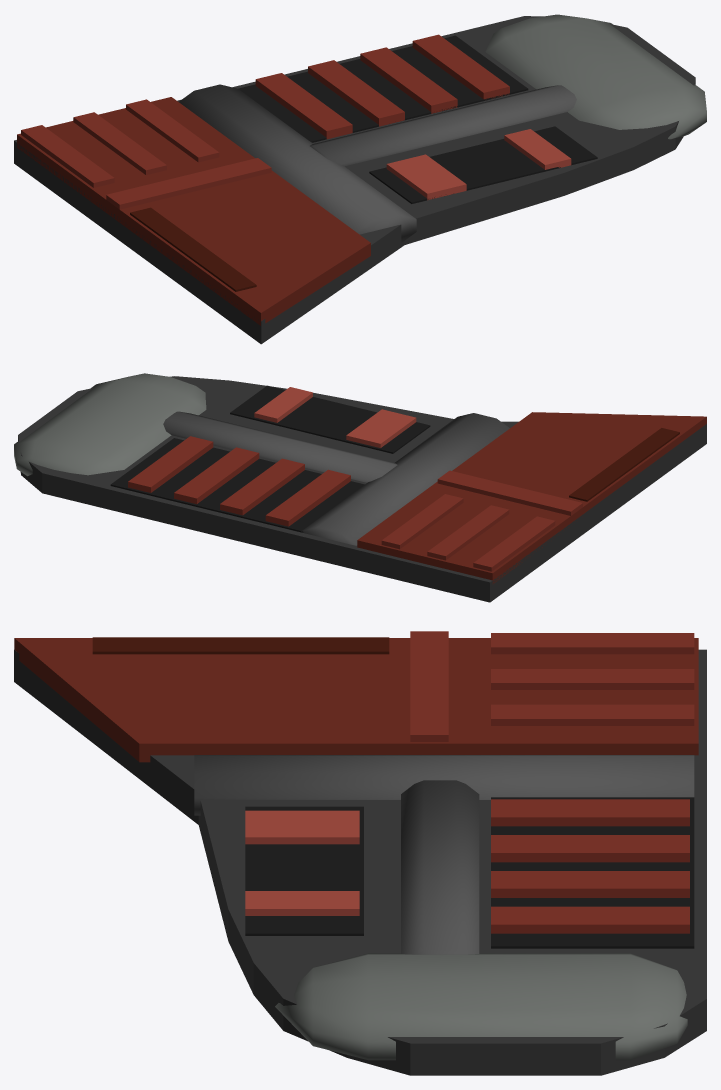
Rendered from newshi-243.glb.
The picture shows the model from 3 angles, top to bottom: view 1: azimuth 30°, elevation 25°; view 2: azimuth 150°, elevation 25°; view 3: azimuth 270°, elevation 25°; orthographic projection. The views are drawn at different scales.
Visible parts, largest first — view 1: newshi-243; view 2: newshi-243; view 3: newshi-243.
Part boxes in pixels (box(x1,y1,x2,y2)): newshi-243: box(14, 14, 706, 344); newshi-243: box(14, 373, 706, 602); newshi-243: box(14, 631, 706, 1075).
Bounding box in the file's own units: 1.83 × 0.13 × 1.36.
